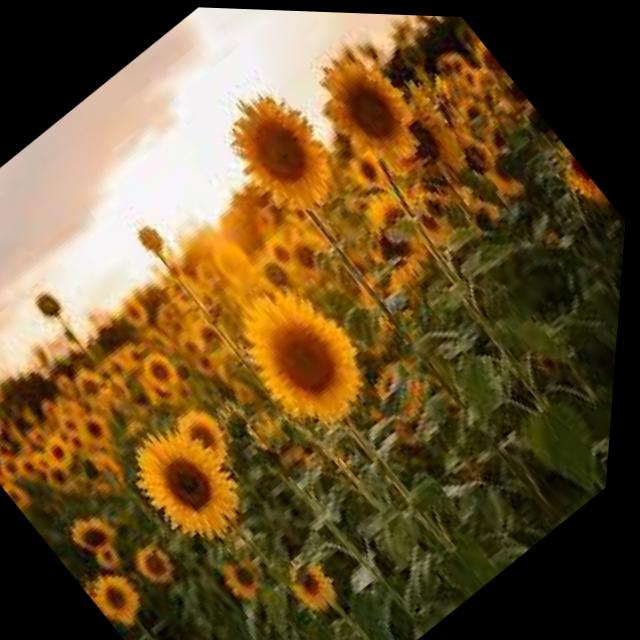Flower: (215, 260, 408, 451), (292, 19, 460, 186), (202, 72, 368, 238), (126, 413, 280, 566), (167, 392, 249, 472), (288, 546, 363, 621), (73, 499, 139, 562), (98, 561, 160, 622), (140, 541, 196, 596)
